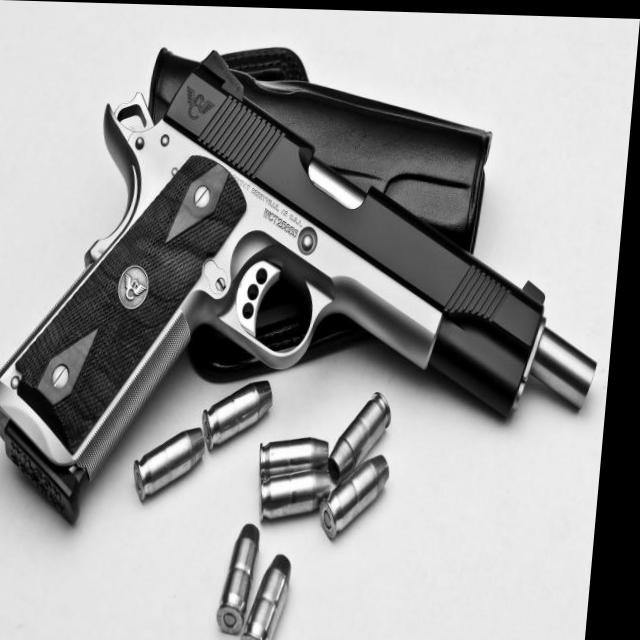handgun: (0, 43, 625, 535)
